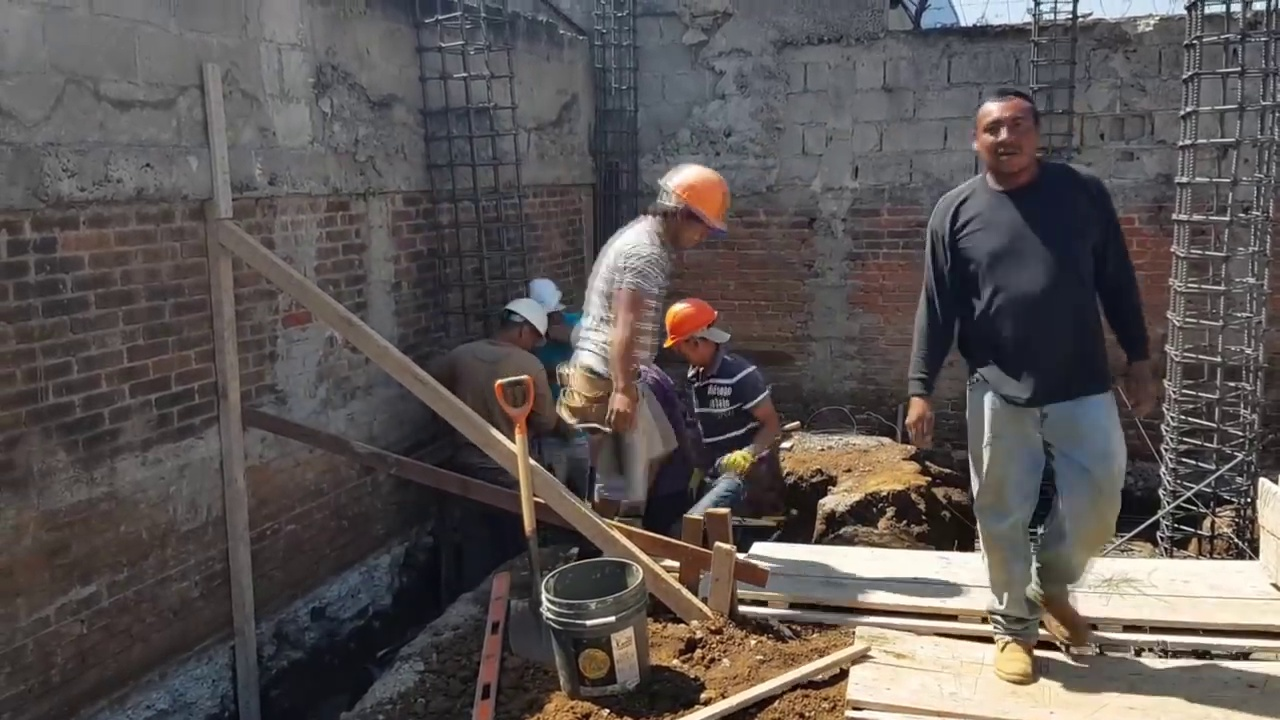helmet: (651, 163, 728, 237), (660, 298, 724, 348), (504, 296, 549, 347), (527, 279, 565, 310)
helmet-off: (982, 83, 1056, 189)
helmet-on: (644, 161, 730, 249), (660, 302, 723, 373), (485, 297, 549, 350), (527, 277, 569, 325)
person: (896, 89, 1166, 682), (569, 162, 729, 516), (405, 290, 572, 502), (647, 298, 782, 518)
